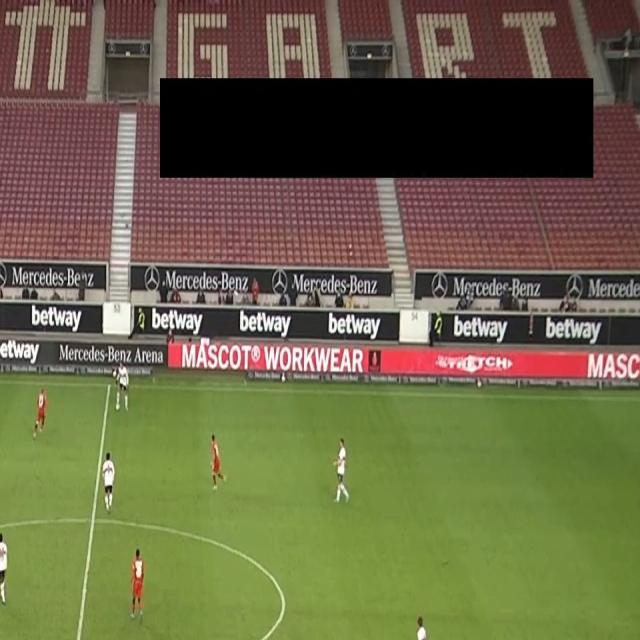ball: (115, 400, 122, 413)
